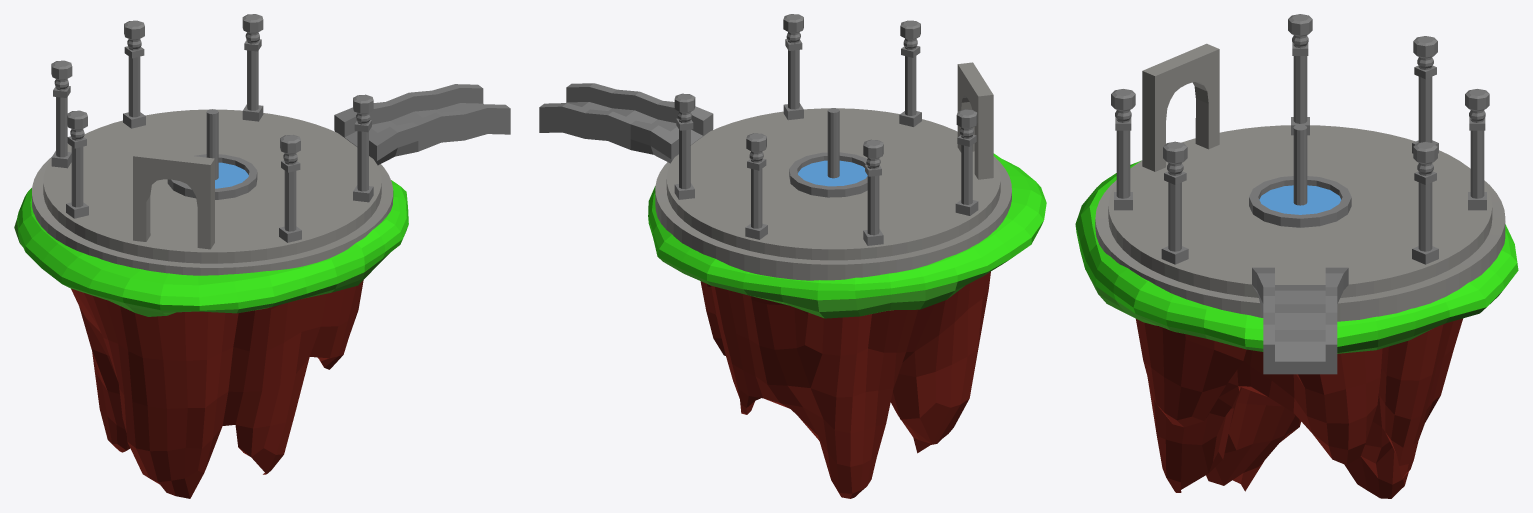
File: IslandTwo.fbx
3 renders of one model, left to right at view 1: azimuth 30°, elevation 25°; view 2: azimuth 150°, elevation 25°; view 3: azimuth 270°, elevation 25°, orthographic. The views are drawn at different scales.
Visible parts, largest first — view 1: Cylinder, Landskape, Cube.001, МостКаменный2, Cube.002, Cylinder.010, Cylinder.004, Cylinder.006, Cylinder.008, Cylinder.003, Cylinder.005, Cylinder.009; view 2: Cylinder, Landskape, Cube.001, МостКаменный2, Cylinder.010, Cube.002, Cylinder.005, Cylinder.006, Cylinder.004, Cylinder.008, Cylinder.003, Cylinder.009; view 3: Cylinder, Landskape, Cube.001, МостКаменный2, Cube.002, Cylinder.010, Cylinder.003, Cylinder.009, Cylinder.004, Cylinder.008, Cylinder.006, Cylinder.005.
Part boxes in pixels (<box>): Cylinder: <box>32,109,393,275</box>; Landskape: <box>71,280,363,498</box>; Cube.001: <box>14,180,408,316</box>; МостКаменный2: <box>334,84,510,165</box>; Cube.002: <box>133,149,214,249</box>; Cylinder.010: <box>167,109,257,199</box>; Cylinder.004: <box>123,20,145,128</box>; Cylinder.006: <box>66,110,88,218</box>; Cylinder.008: <box>279,135,301,242</box>; Cylinder.003: <box>242,14,263,121</box>; Cylinder.005: <box>51,60,72,168</box>; Cylinder.009: <box>353,94,373,202</box>; Cylinder: <box>655,108,1011,280</box>; Landskape: <box>700,271,990,498</box>; Cube.001: <box>648,153,1046,318</box>; МостКаменный2: <box>539,83,713,163</box>; Cylinder.010: <box>789,108,867,197</box>; Cube.002: <box>957,62,993,179</box>; Cylinder.005: <box>863,139,883,245</box>; Cylinder.006: <box>955,109,978,215</box>; Cylinder.004: <box>745,133,767,239</box>; Cylinder.008: <box>899,20,921,126</box>; Cylinder.003: <box>674,93,695,199</box>; Cylinder.009: <box>783,14,803,120</box>; Cylinder: <box>1095,125,1505,321</box>; Landskape: <box>1136,318,1462,498</box>; Cube.001: <box>1075,160,1518,353</box>; МостКаменный2: <box>1252,267,1348,374</box>; Cube.002: <box>1142,43,1219,171</box>; Cylinder.010: <box>1249,124,1351,227</box>; Cylinder.003: <box>1412,141,1438,264</box>; Cylinder.009: <box>1161,141,1188,264</box>; Cylinder.004: <box>1465,89,1489,210</box>; Cylinder.008: <box>1111,89,1135,210</box>; Cylinder.006: <box>1288,14,1312,135</box>; Cylinder.005: <box>1412,36,1438,153</box>.
Bounding box in the file's own units: 8745 × 6983 × 6461.
